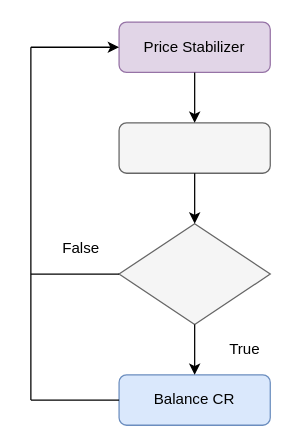
This 292x447 diagram has some shape labels left out. The shapes that lost their labels are listed below. From the top down, each one's centre as x and y in pixels, then its label:
[194,147]: FIC or XS Added to Supply
[194,273]: CR Outside Threshold
